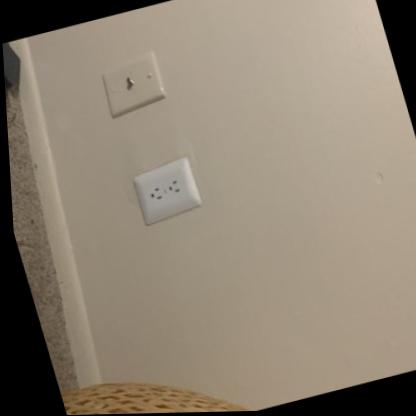OUTLET: (129, 156, 206, 226)
